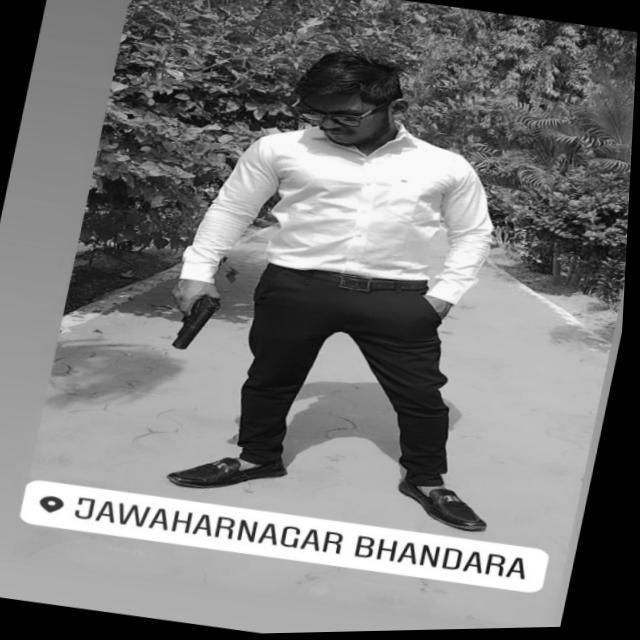weapon: (154, 278, 240, 360)
